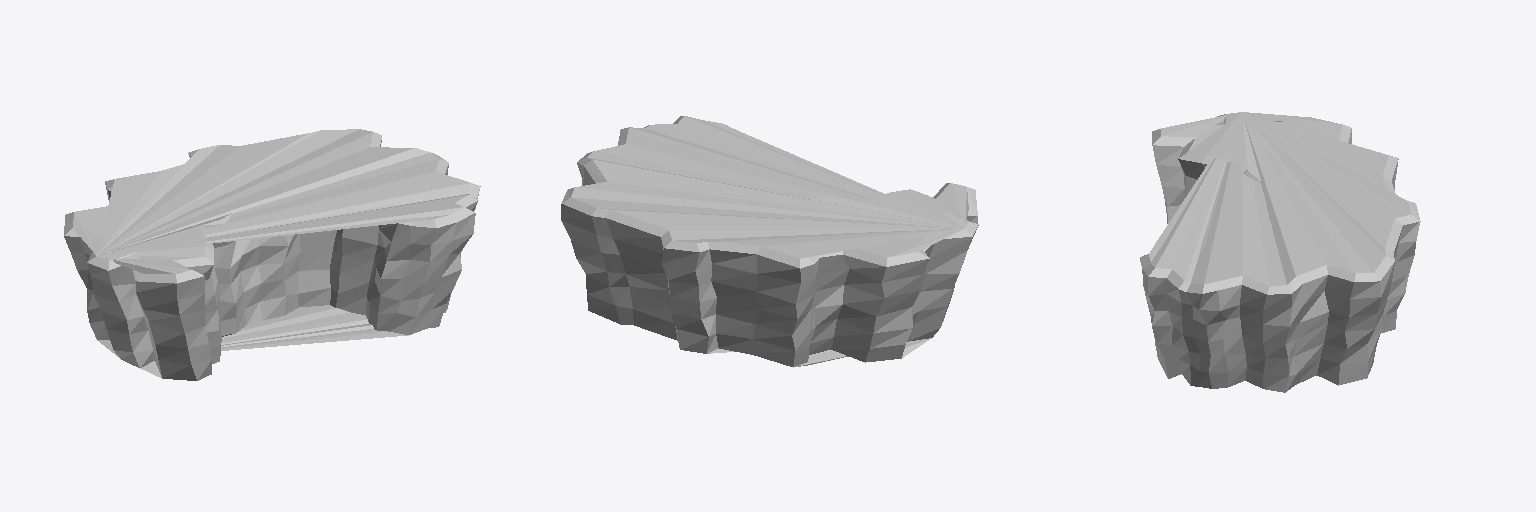
Rendered from Cliff_2.obj.
3 renders of one model, left to right at view 1: azimuth 30°, elevation 25°; view 2: azimuth 150°, elevation 25°; view 3: azimuth 270°, elevation 25°, orthographic.
Parts seen in each view (by area): view 1: Cliff_2_Plane.004; view 2: Cliff_2_Plane.004; view 3: Cliff_2_Plane.004.
Part boxes in pixels (left/top/right/bottom): Cliff_2_Plane.004: left=64, top=129, right=480, bottom=380; Cliff_2_Plane.004: left=561, top=116, right=978, bottom=367; Cliff_2_Plane.004: left=1140, top=112, right=1420, bottom=392.
Size of the model in its own units: 63.58 by 19.95 by 41.41.